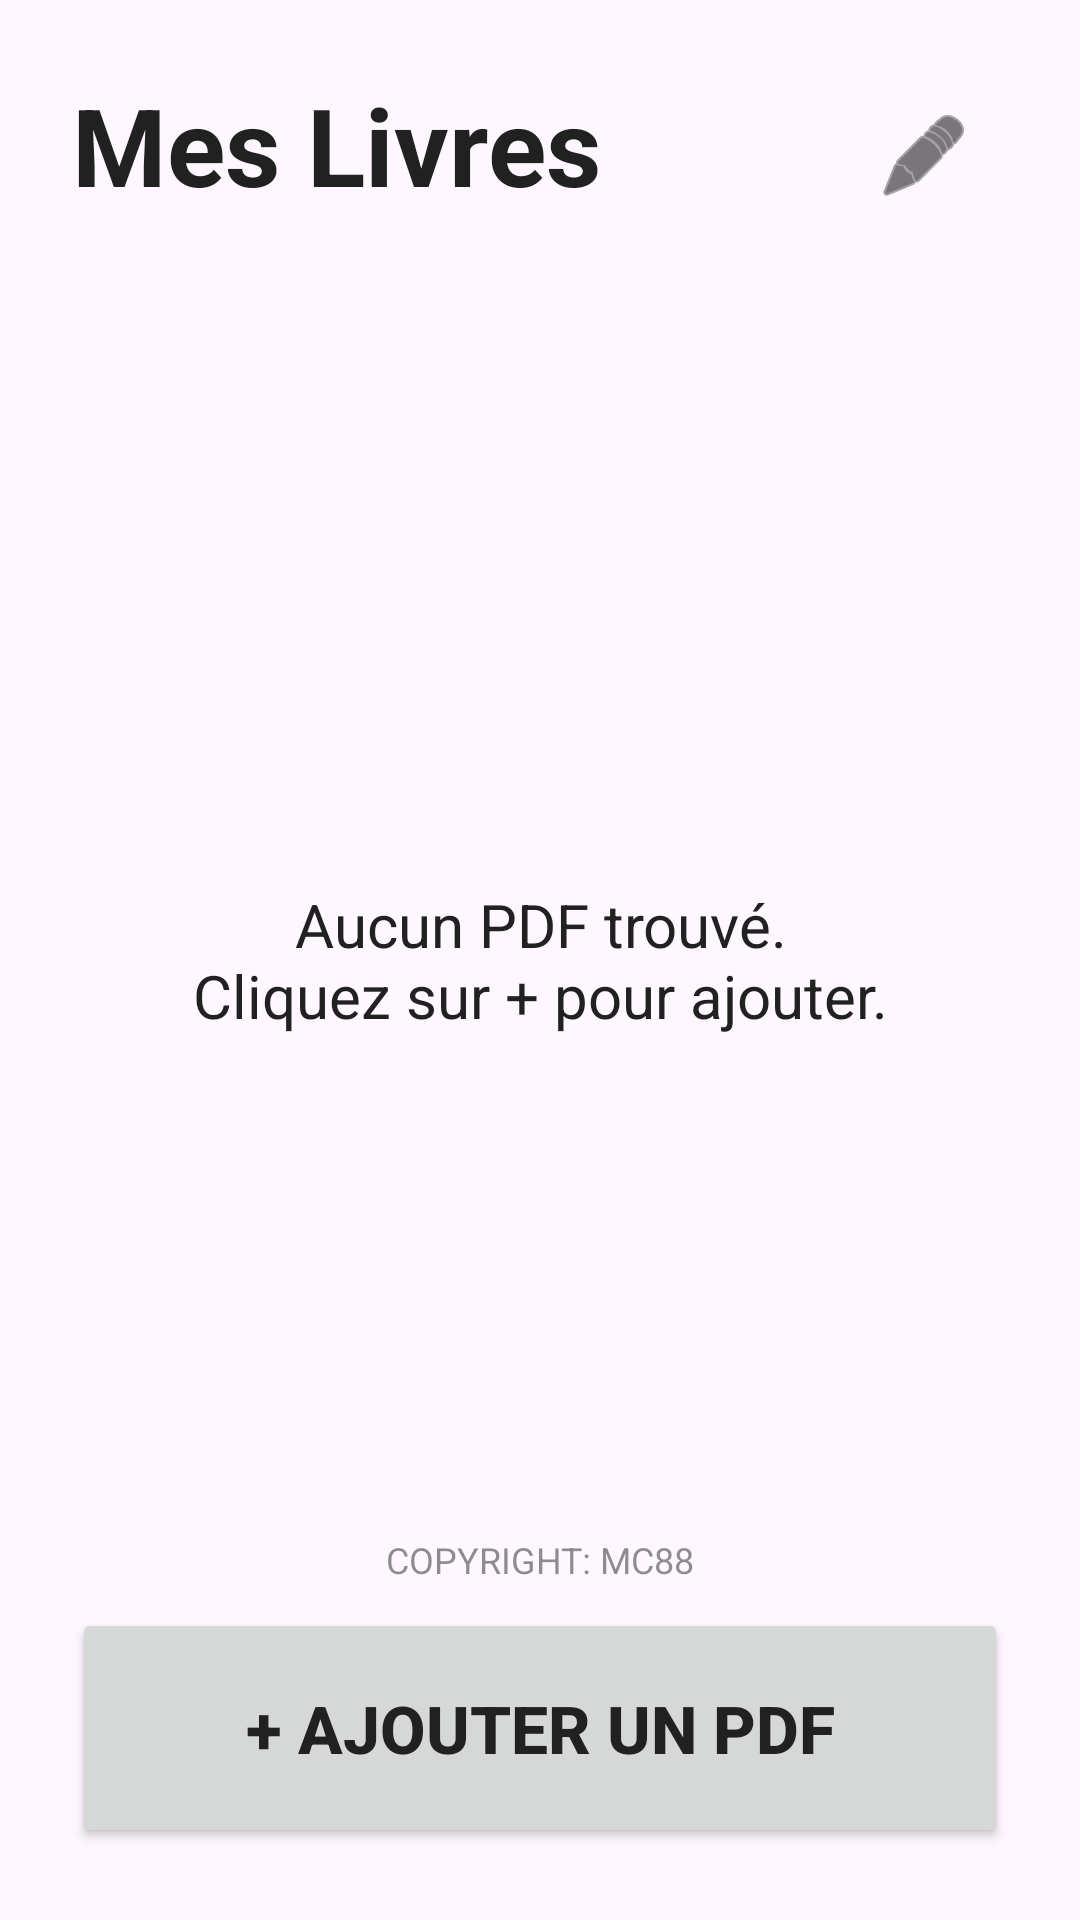

Named icons in this screenshot (1080px×1920px) and their bounding boxes, (x1, y1, x2, y2):
edit: (883, 115, 964, 196)
